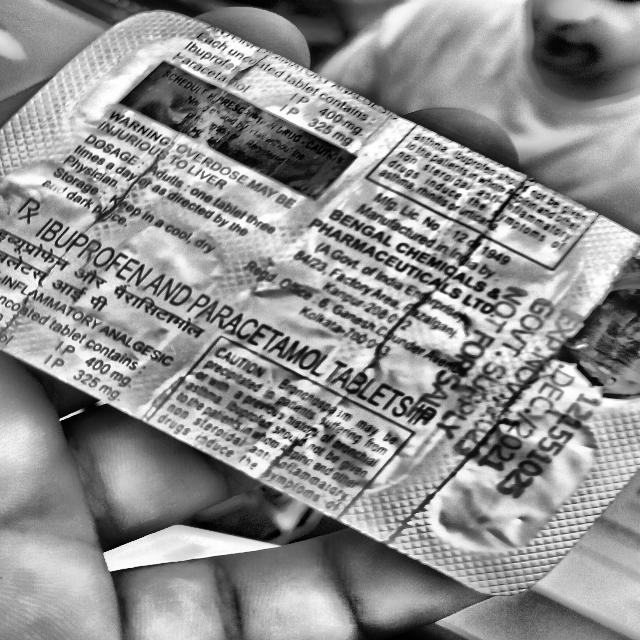IBUPROFEN AND PARACETAMOL TABLETS: (25, 206, 452, 439)
